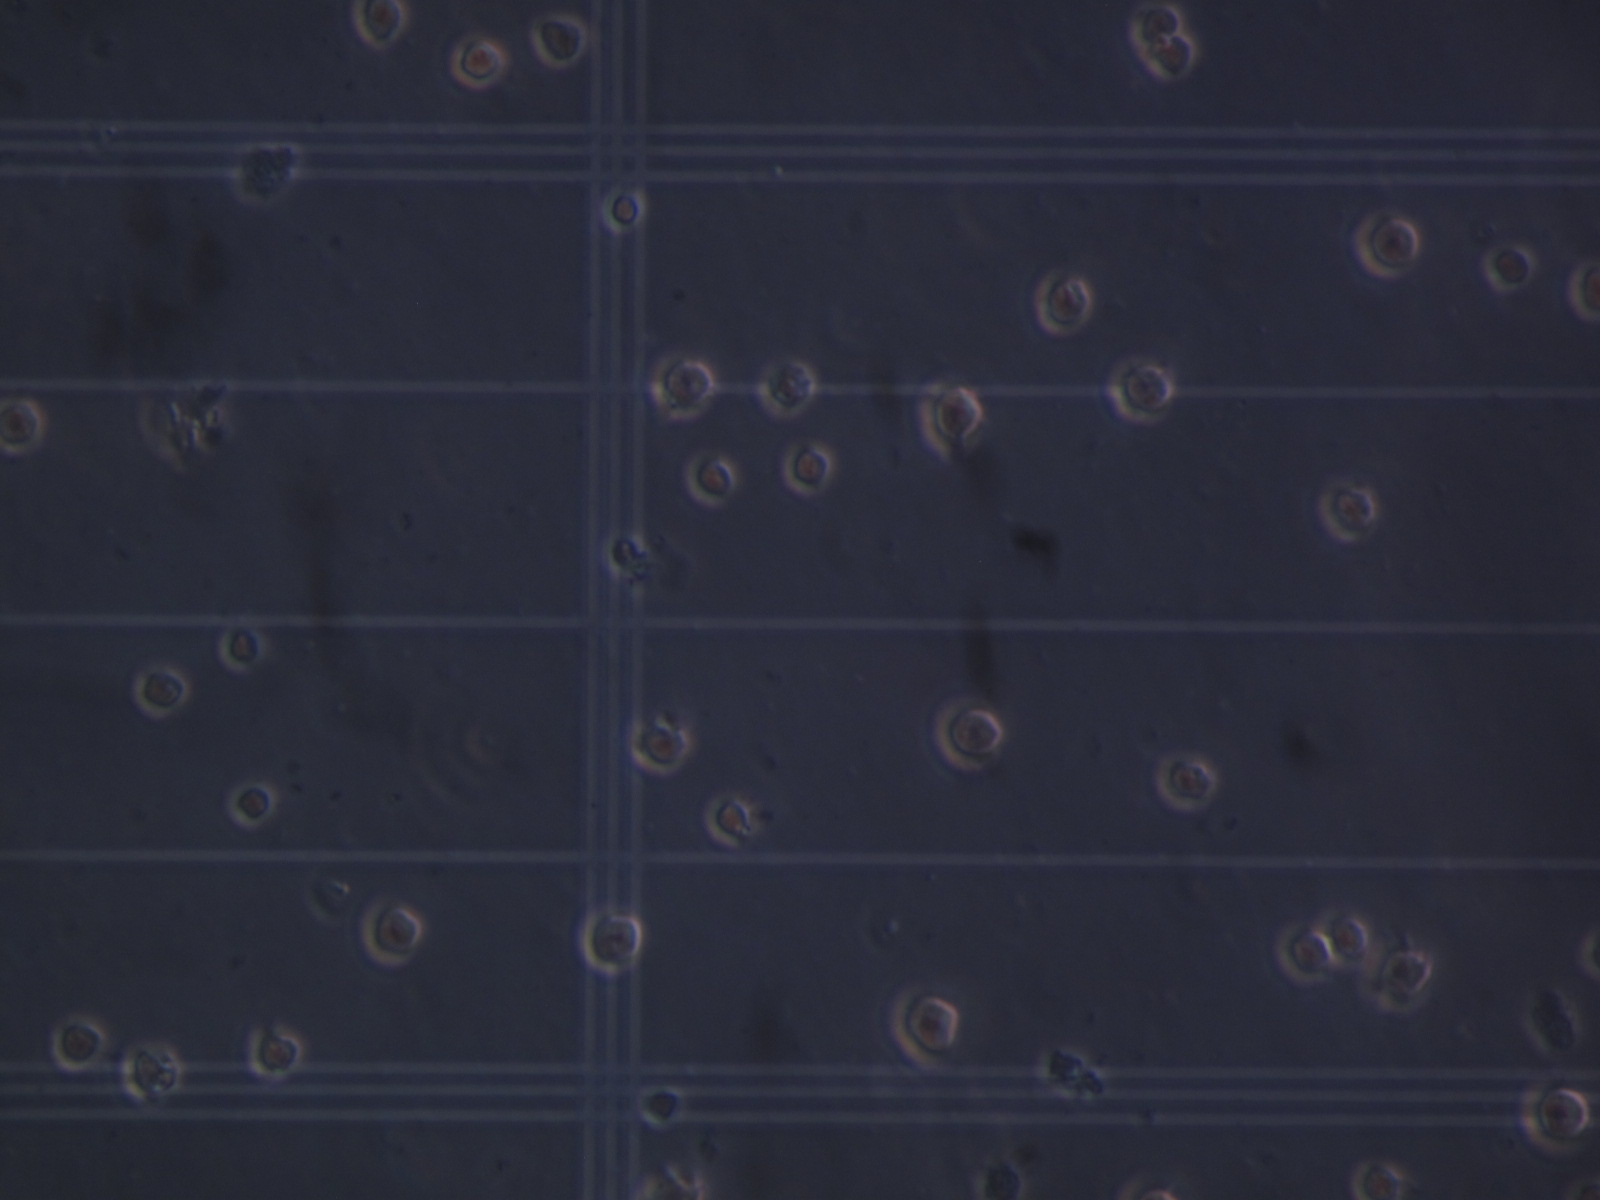hemo: (1519, 1076, 1595, 1160), (889, 983, 959, 1070), (932, 698, 1003, 771), (1104, 354, 1170, 429), (920, 379, 981, 458), (1354, 205, 1419, 279), (359, 897, 421, 967), (1318, 476, 1380, 545), (118, 1041, 185, 1103), (1369, 949, 1432, 1013), (234, 141, 297, 205), (651, 355, 714, 418), (1274, 921, 1333, 987), (1033, 270, 1094, 333), (583, 913, 643, 973), (758, 355, 816, 417), (1154, 754, 1217, 811), (447, 33, 508, 91), (1315, 913, 1373, 971), (132, 664, 191, 718), (528, 13, 586, 67), (631, 724, 688, 775), (52, 1017, 105, 1071), (353, 1, 406, 50), (1482, 242, 1534, 291), (687, 454, 736, 507), (1, 395, 45, 453), (251, 1031, 305, 1078), (1125, 1, 1182, 45), (219, 625, 268, 676), (784, 444, 831, 495), (226, 778, 278, 824), (1349, 1160, 1406, 1200), (1146, 35, 1194, 82), (707, 795, 752, 845), (1567, 260, 1600, 320), (603, 188, 646, 233), (639, 1085, 683, 1128)
